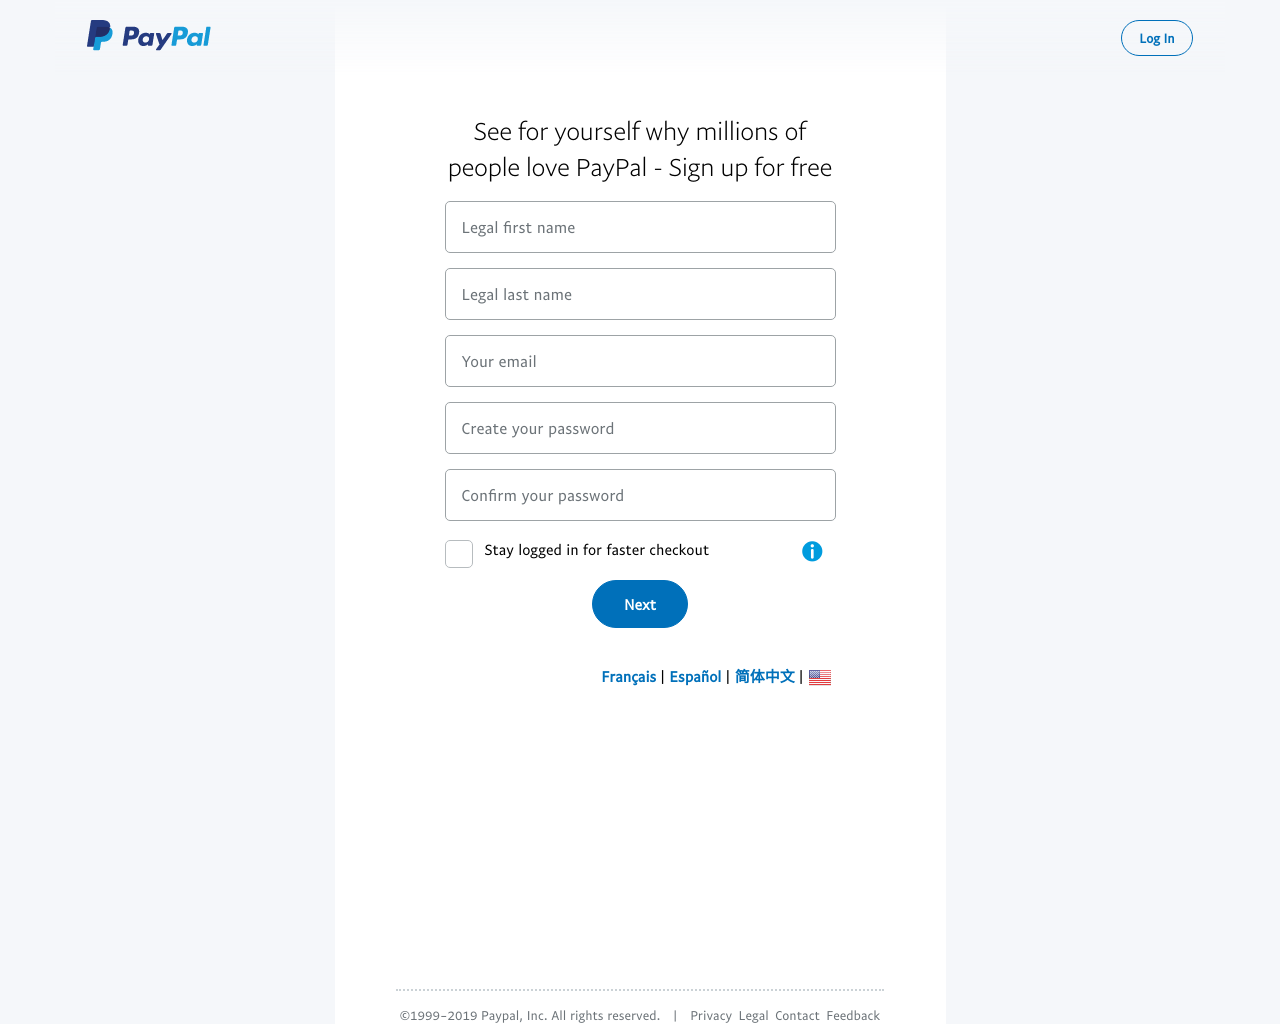Paypal: (78, 15, 219, 55)
